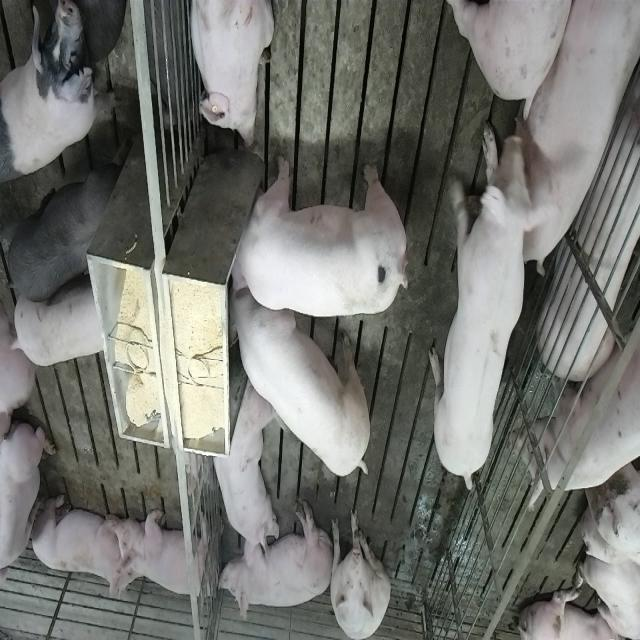Feeding: (229, 154, 414, 320), (228, 280, 376, 480)
Lateral_lying: (216, 498, 334, 624)
Sitting: (328, 506, 391, 638)
Standing: (430, 177, 536, 496), (513, 298, 640, 505), (2, 136, 130, 302), (2, 36, 118, 192), (11, 280, 108, 366)
Sternal_lying: (514, 0, 640, 273), (188, 0, 275, 150), (207, 381, 274, 569), (110, 502, 216, 604), (28, 490, 128, 598), (2, 418, 54, 602)
